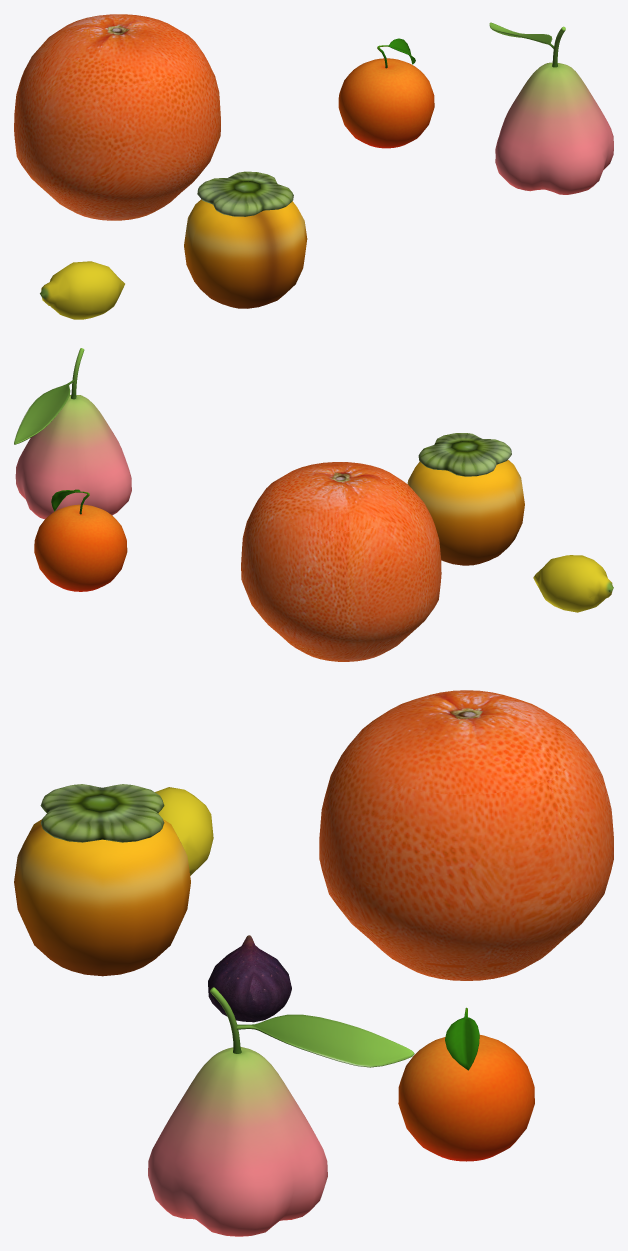
The model's file is grapefruit.fbx.
The picture shows the model from 3 angles, top to bottom: view 1: azimuth 30°, elevation 25°; view 2: azimuth 150°, elevation 25°; view 3: azimuth 270°, elevation 25°; orthographic projection. The views are drawn at different scales.
Visible parts, largest first — view 1: Grapefruit_0, Object_2.005, Object_7, Orange_Orange_0, Lemon_Lemon_0; view 2: Grapefruit_0, Object_2.005, Object_7, Orange_Orange_0, Lemon_Lemon_0; view 3: Grapefruit_0, Object_7, Object_2.005, Orange_Orange_0, fig whole 1_fig outside_0, Lemon_Lemon_0.
Boxes of the visible parts, box(x1,y1,x2,y2) form: Grapefruit_0: box(14, 14, 220, 220); Object_2.005: box(184, 171, 307, 308); Object_7: box(489, 22, 613, 194); Orange_Orange_0: box(338, 38, 434, 148); Lemon_Lemon_0: box(40, 261, 124, 319); Grapefruit_0: box(241, 462, 441, 661); Object_2.005: box(407, 433, 524, 565); Object_7: box(14, 348, 131, 519); Orange_Orange_0: box(34, 489, 127, 591); Lemon_Lemon_0: box(533, 555, 613, 612); Grapefruit_0: box(319, 690, 613, 980); Object_7: box(148, 987, 414, 1236); Object_2.005: box(14, 784, 190, 976); Orange_Orange_0: box(398, 1007, 534, 1161); fig whole 1_fig outside_0: box(208, 935, 291, 1022); Lemon_Lemon_0: box(155, 787, 213, 875).
Bounding box in the file's own units: 51.85 × 15.12 × 32.09.
Materials: 1 (1 with a texture image).
